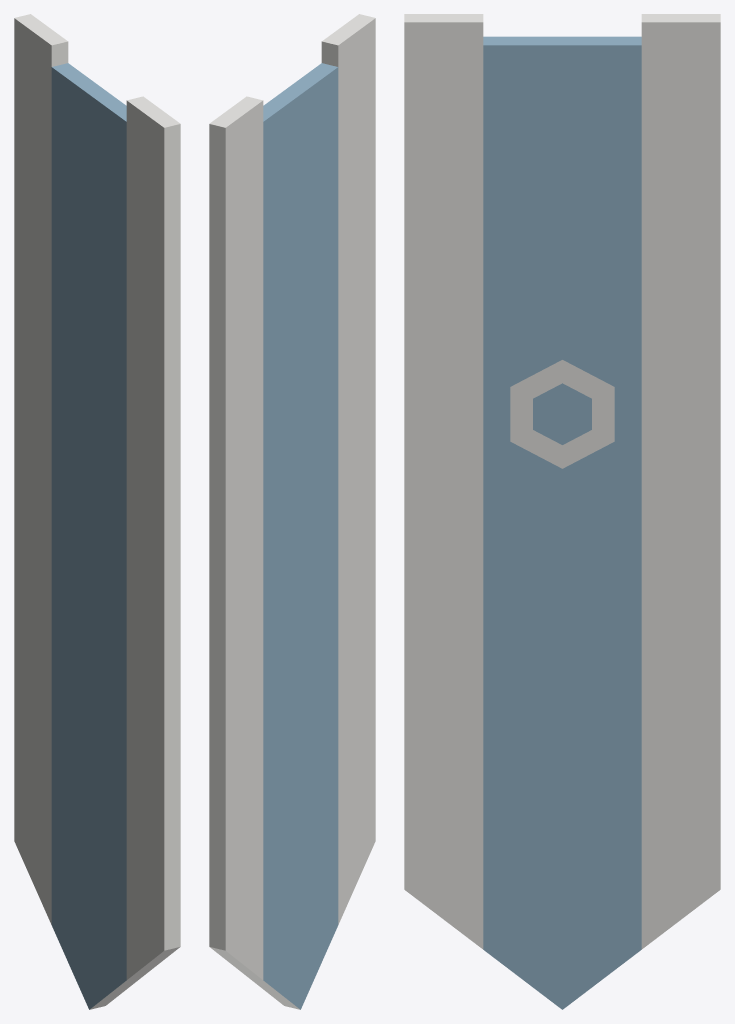
File: flagBannerLong.glb
The picture shows the model from 3 angles, left to right: view 1: azimuth 30°, elevation 25°; view 2: azimuth 150°, elevation 25°; view 3: azimuth 270°, elevation 25°; orthographic projection. The views are drawn at different scales.
Parts seen in each view (by area): view 1: flagBannerLong; view 2: flagBannerLong; view 3: flagBannerLong.
Part boxes in pixels (left/top/right/bottom): flagBannerLong: left=14, top=14, right=180, bottom=1009; flagBannerLong: left=209, top=14, right=375, bottom=1009; flagBannerLong: left=404, top=14, right=720, bottom=1009.
Bounding box in the file's own units: 0.4 × 21.7 × 6.3.
